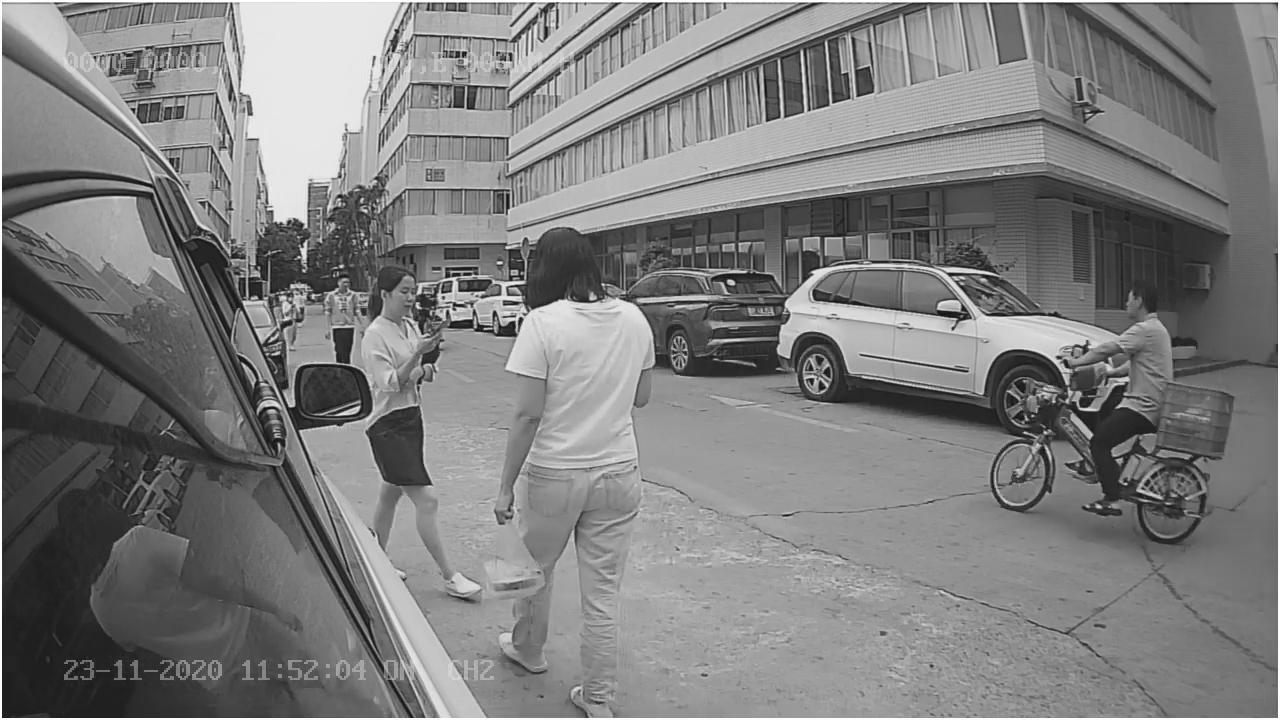person: (473, 229, 685, 720), (1052, 262, 1184, 381), (358, 262, 445, 374)
